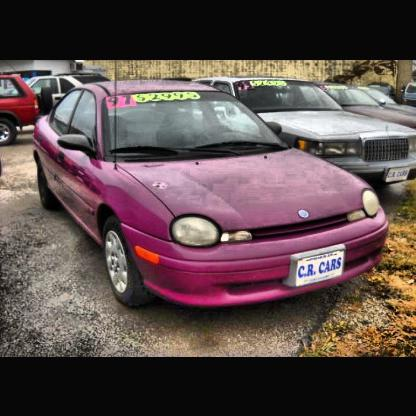Plymouth Neon Coupe 1999: (35, 81, 390, 312)
